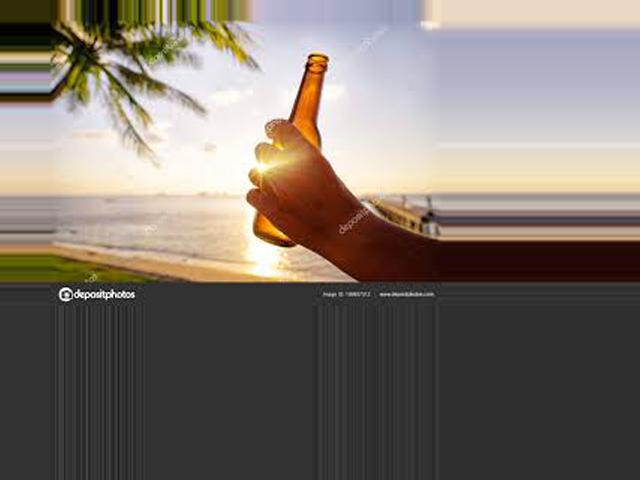beer: (253, 54, 329, 247)
